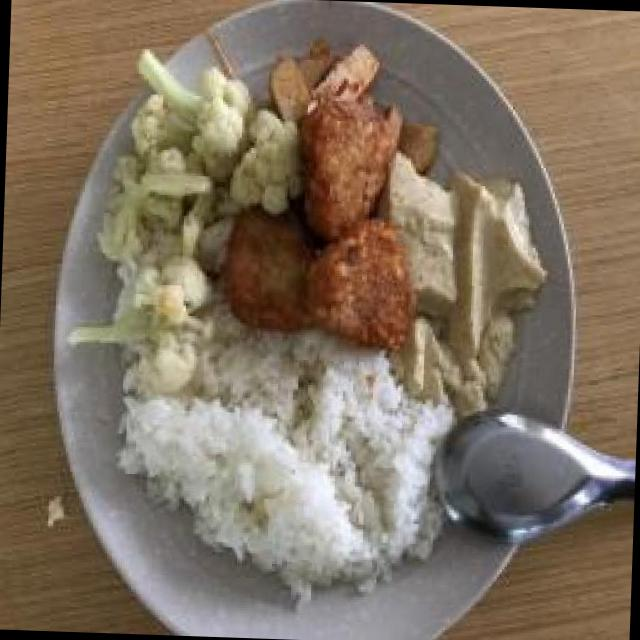rice: (141, 334, 429, 584)
triangle_hash_brown: (220, 92, 422, 338)
